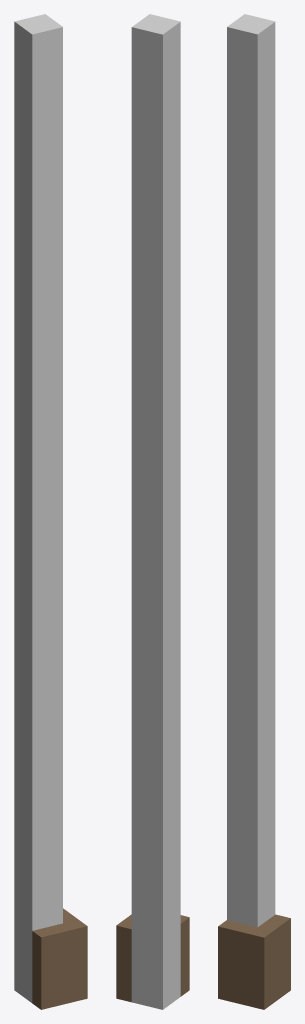
File: Mesh_WallBaseboard_H6.fbx
3 renders of one model, left to right at view 1: azimuth 30°, elevation 25°; view 2: azimuth 150°, elevation 25°; view 3: azimuth 330°, elevation 25°, orthographic.
Parts seen in each view (by area): view 1: Mesh_WallBaseboard_H6; view 2: Mesh_WallBaseboard_H6; view 3: Mesh_WallBaseboard_H6.
Boxes of the visible parts, x1=… form: Mesh_WallBaseboard_H6: x1=14, y1=14, x2=87, y2=1009; Mesh_WallBaseboard_H6: x1=116, y1=14, x2=189, y2=1009; Mesh_WallBaseboard_H6: x1=218, y1=14, x2=290, y2=1009.
Bounding box in the file's own units: 0.15 × 3 × 0.15.
